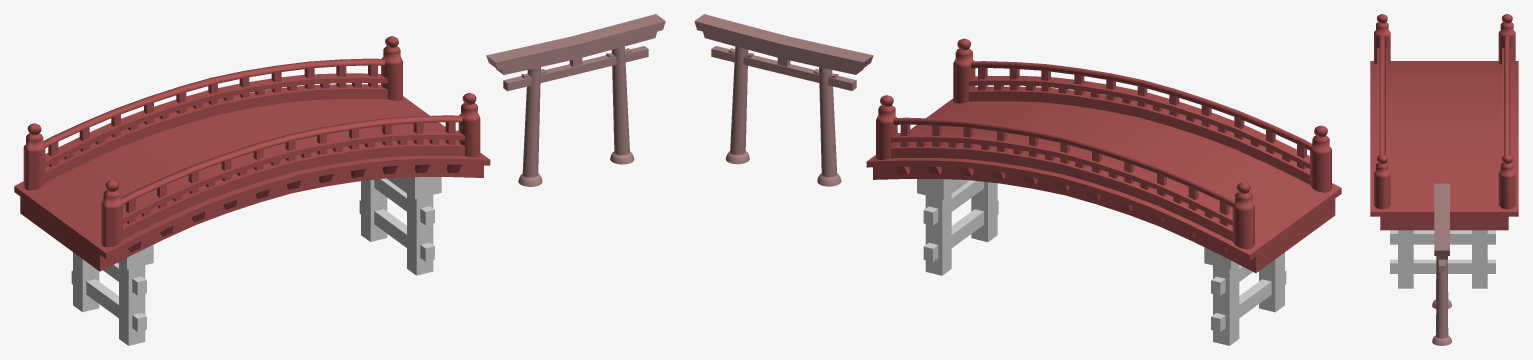
File: Bridge and Torii FBX.fbx
3 views of the same model, side by side, from view 1: azimuth 30°, elevation 25°; view 2: azimuth 150°, elevation 25°; view 3: azimuth 270°, elevation 25° (orthographic). The views are drawn at different scales.
Parts seen in each view (by area): view 1: Bridge, Torii2; view 2: Bridge, Torii2; view 3: Bridge, Torii2.
Boxes of the visible parts, <box> form: Bridge: <box>14,36,490,345</box>; Torii2: <box>486,14,665,186</box>; Bridge: <box>866,38,1341,345</box>; Torii2: <box>694,14,873,186</box>; Bridge: <box>1370,14,1518,288</box>; Torii2: <box>1432,183,1451,345</box>.
Bounding box in the file's own units: 2108 × 610 × 561.
